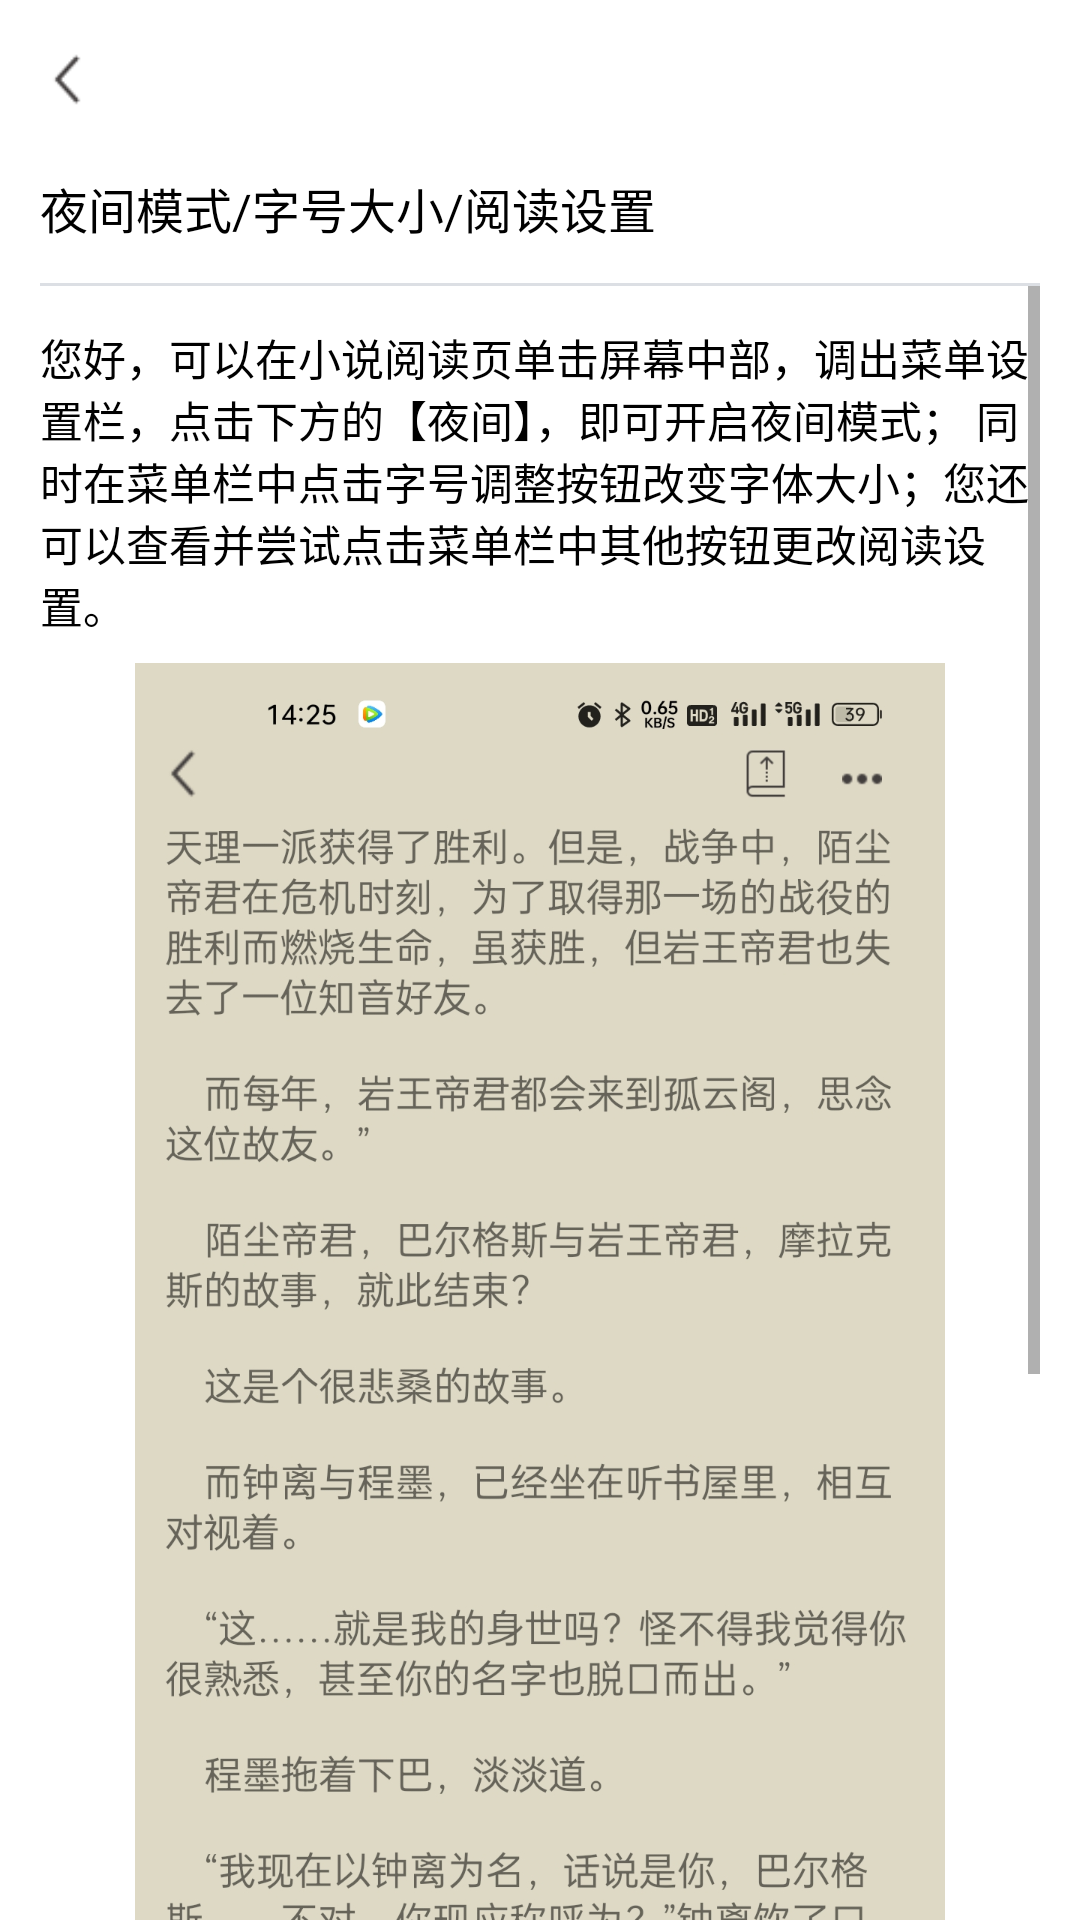

Named icons in this screenshot (1080px x 1920px) and their bounding boxes, (left=x1, top=y1, right=x2, bottom=y2):
返回: (left=55, top=55, right=80, bottom=104)
